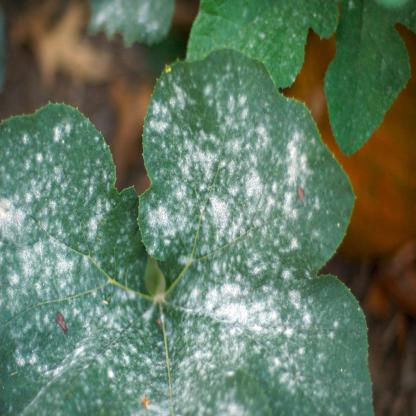Squash Powdery mildew leaf: (0, 47, 372, 413)
